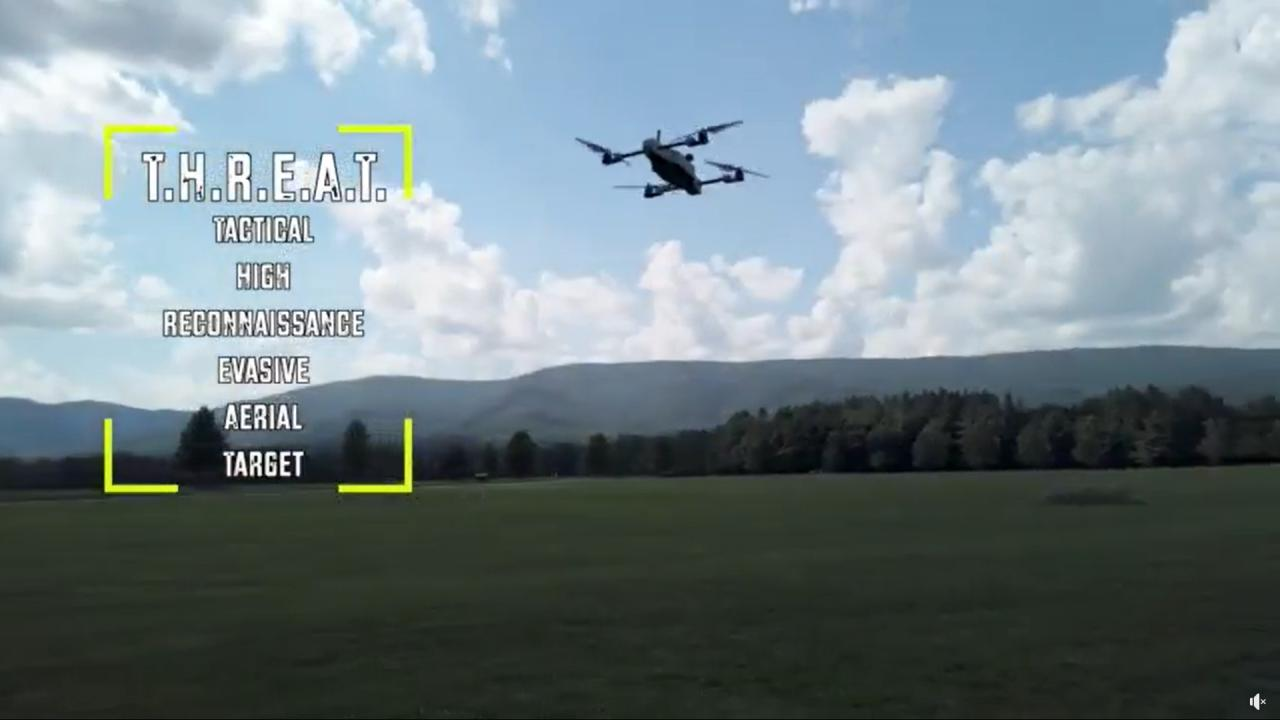Drone: (561, 107, 789, 213)
